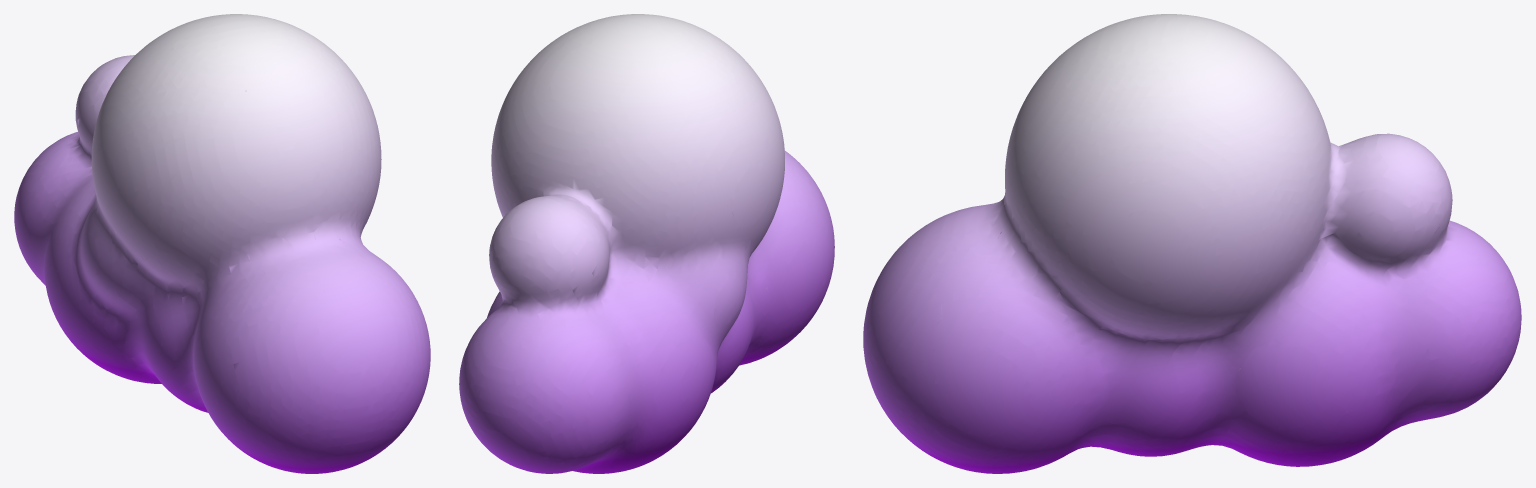
Rendered from nube.glb.
3 renders of one model, left to right at view 1: azimuth 30°, elevation 25°; view 2: azimuth 150°, elevation 25°; view 3: azimuth 270°, elevation 25°, orthographic. The views are drawn at different scales.
Visible parts, largest first — view 1: Mball.001; view 2: Mball.001; view 3: Mball.001.
Part boxes in pixels (x1,y1,x2,y2): Mball.001: (14,14,430,473); Mball.001: (459,14,834,473); Mball.001: (863,14,1521,473).
Bounding box in the file's own units: 2.38 × 3.47 × 4.76.
Materials: 1 (1 with a texture image).
